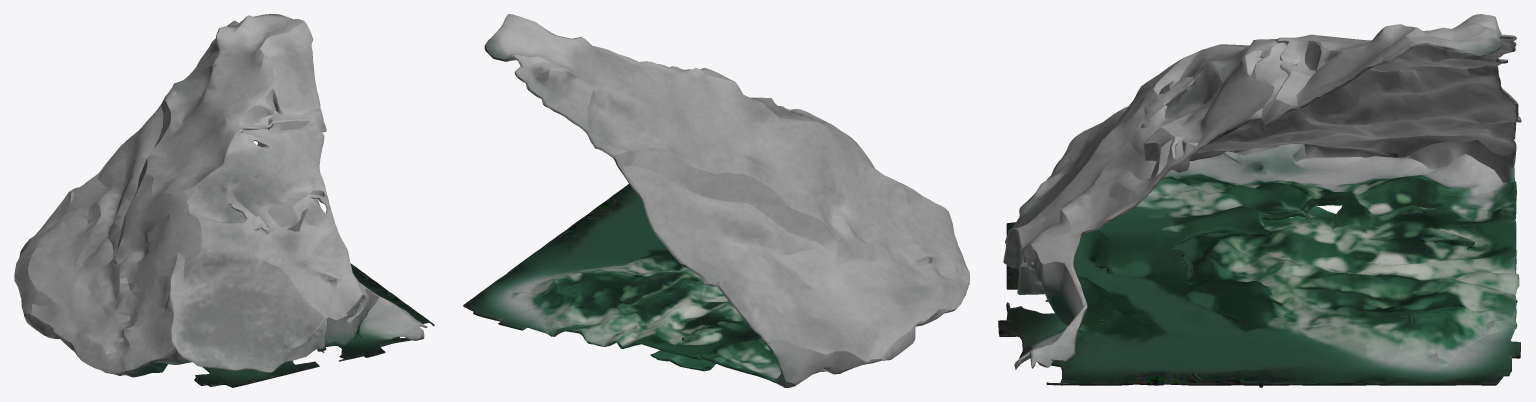
3 renders of one model, left to right at view 1: azimuth 30°, elevation 25°; view 2: azimuth 150°, elevation 25°; view 3: azimuth 270°, elevation 25°, orthographic. The views are drawn at different scales.
Parts seen in each view (by area): view 1: world; view 2: world; view 3: world.
Part boxes in pixels (bbox=[...]): world: bbox=[14, 14, 434, 387]; world: bbox=[463, 14, 969, 387]; world: bbox=[998, 14, 1521, 387].
Size of the model in its own units: 0.35 by 0.2429 by 0.3416.
Materials: 1 (1 with a texture image).
